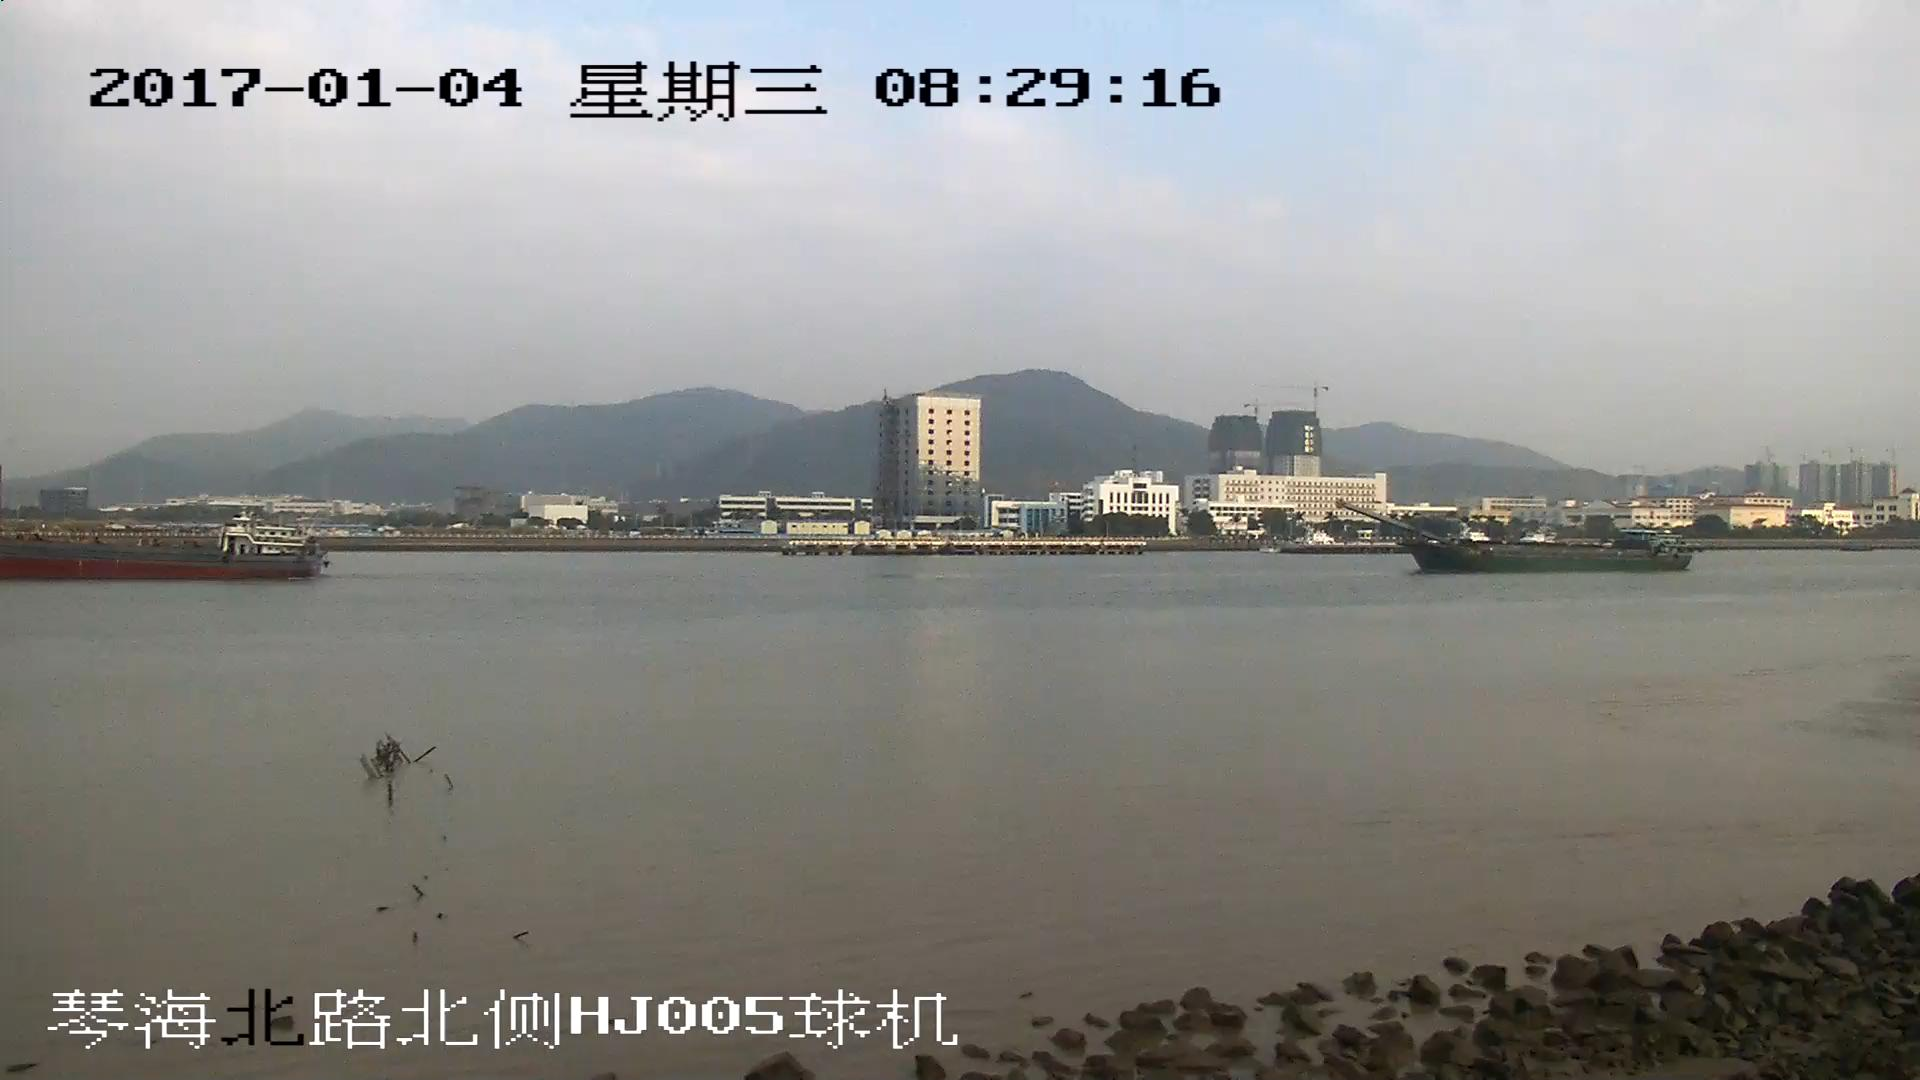bulk cargo carrier: (1342, 502, 1696, 570), (1, 521, 327, 582)
